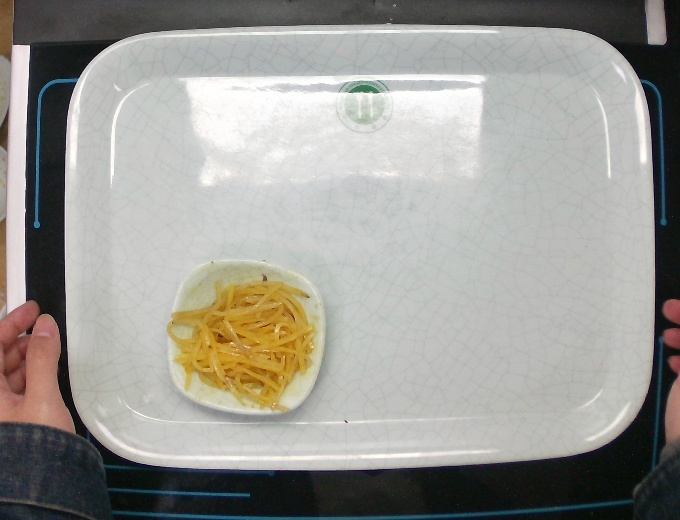JYsf-Si_Fang_Die: (156, 249, 332, 427)
